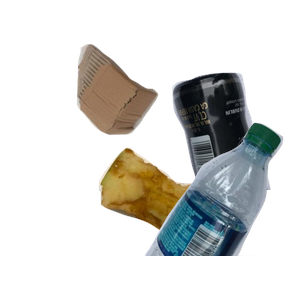cardboard: (74, 42, 225, 170)
glass: (106, 70, 300, 250)
plastic: (142, 120, 300, 300)
trash: (96, 145, 295, 300)
